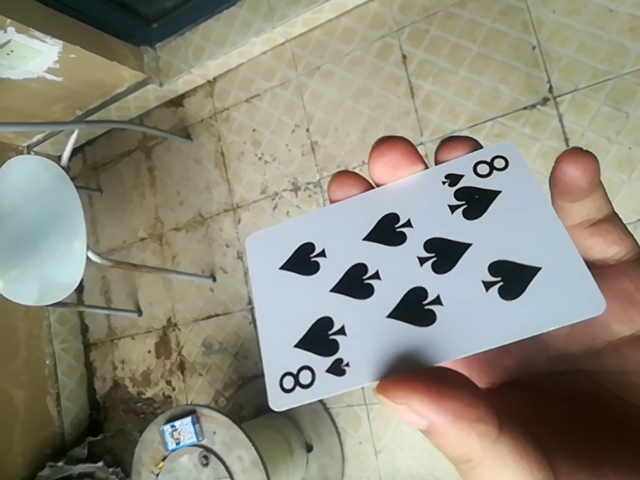ht 8: (239, 135, 603, 413)
